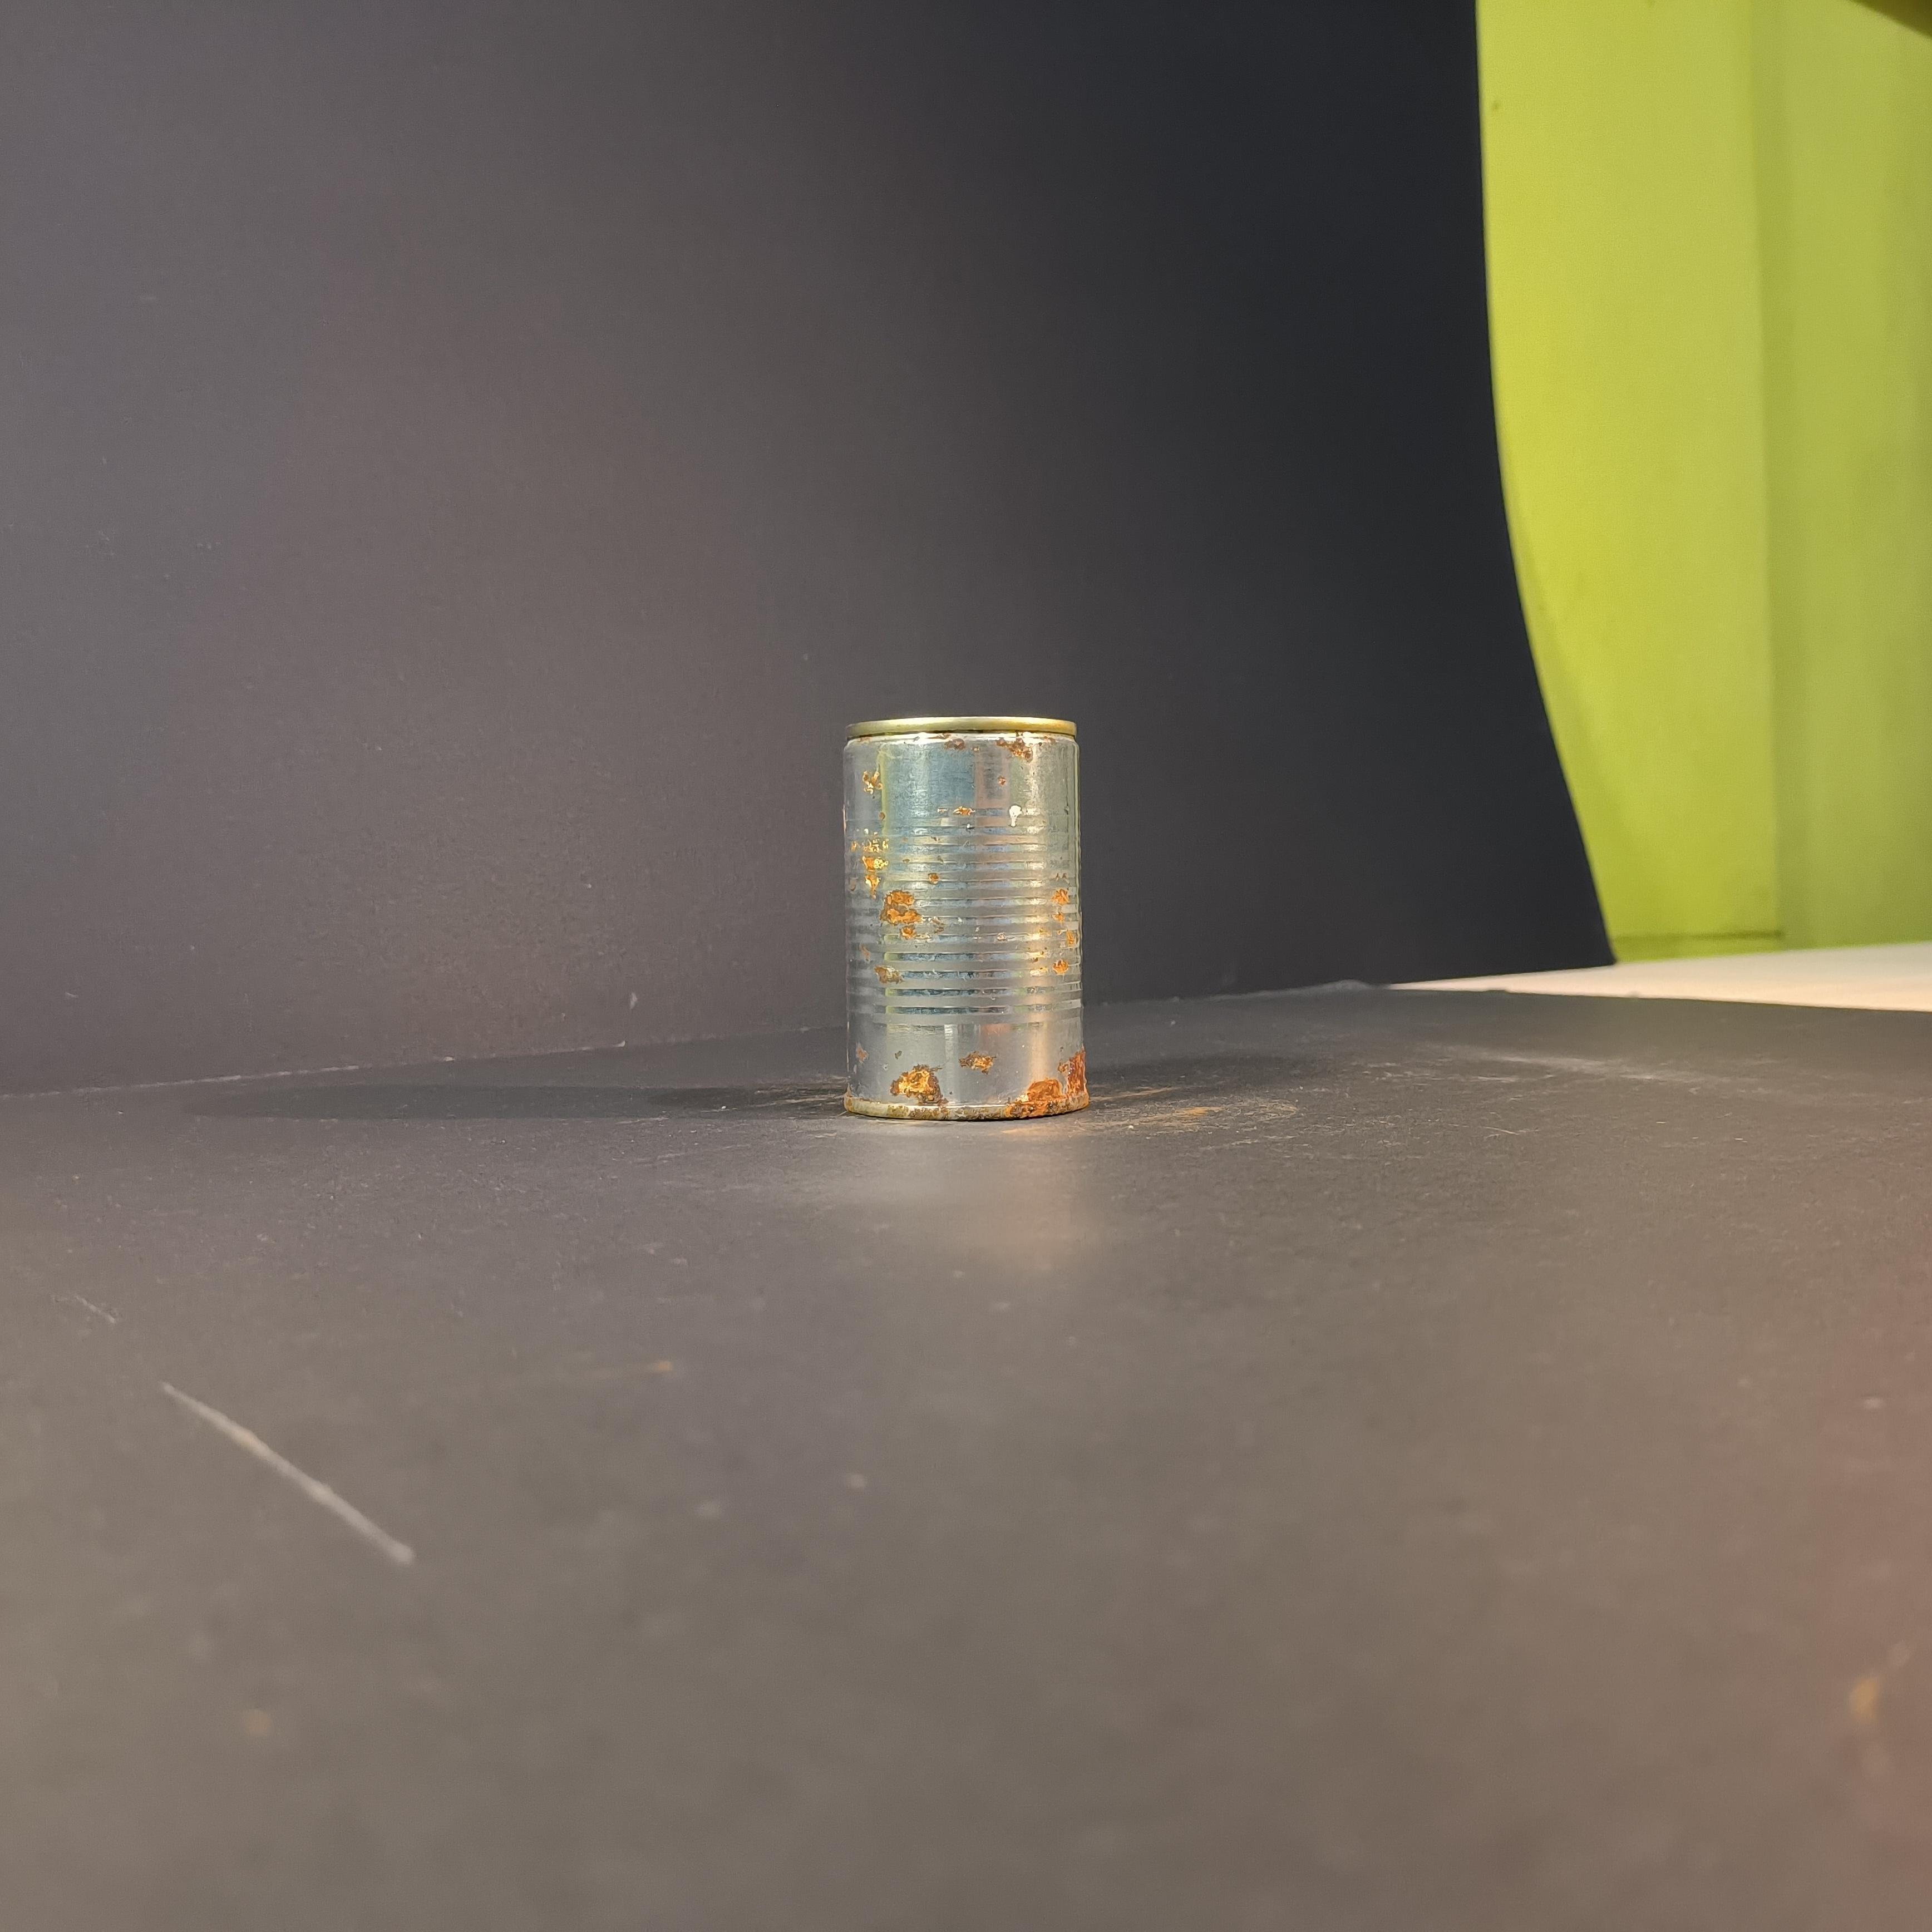Rusted: (823, 704, 1102, 1143)
